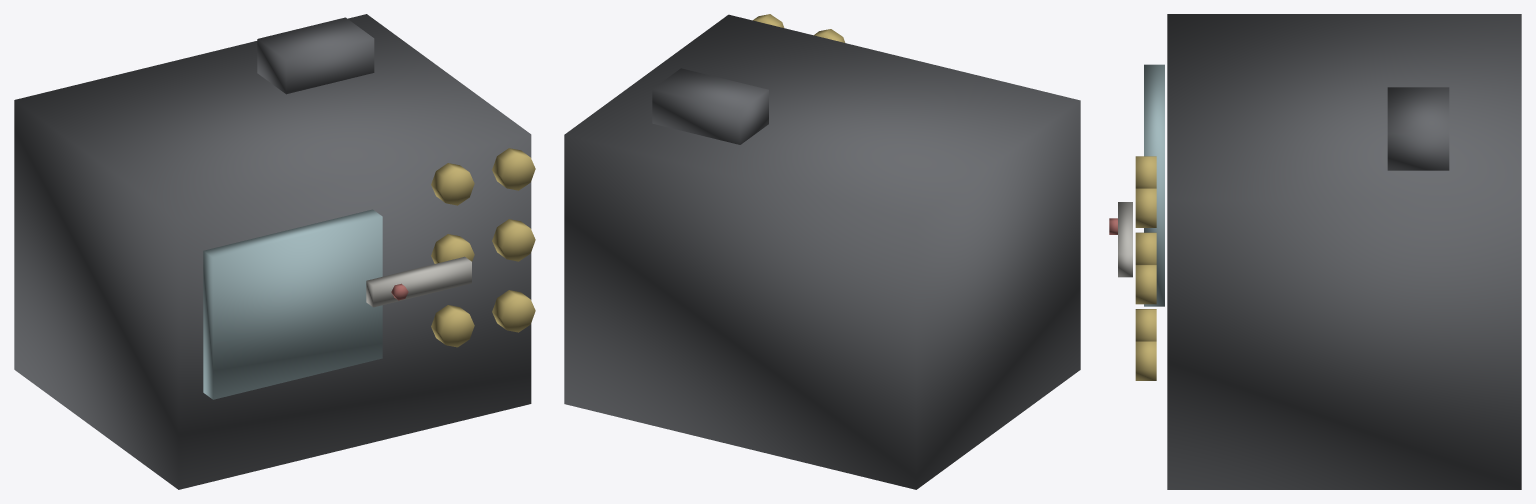
Rendered from oscilloscope__service.glb.
The picture shows the model from 3 angles, left to right: view 1: azimuth 30°, elevation 25°; view 2: azimuth 150°, elevation 25°; view 3: azimuth 270°, elevation 25°; orthographic projection. The views are drawn at different scales.
Visible parts, largest first — view 1: world; view 2: world; view 3: world.
Part boxes in pixels (x1,y1,x2,y2): world: (14,14,535,489); world: (564,14,1080,489); world: (1109,14,1521,489).
Size of the model in its own units: 0.52 by 0.4285 by 0.4885.
